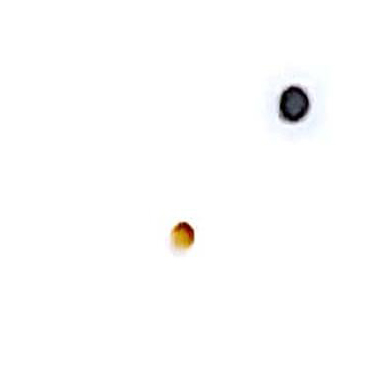cancer: (261, 65, 333, 142)
normal: (153, 202, 217, 263)
